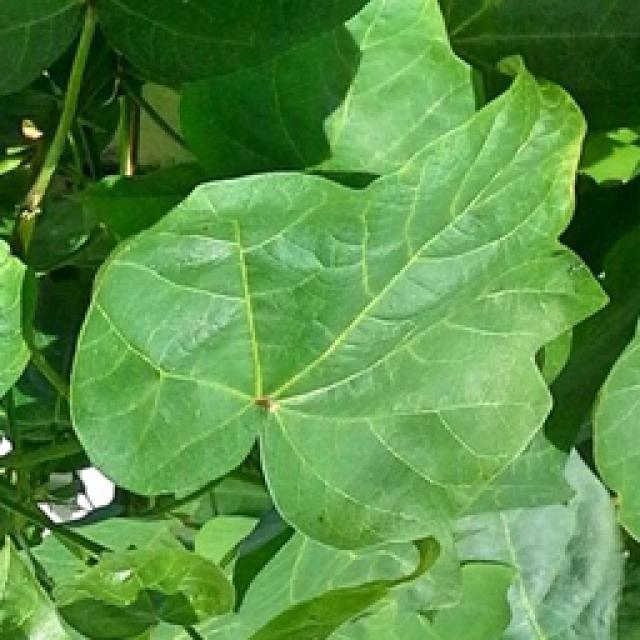Healthy Leaf: (10, 10, 640, 640)
